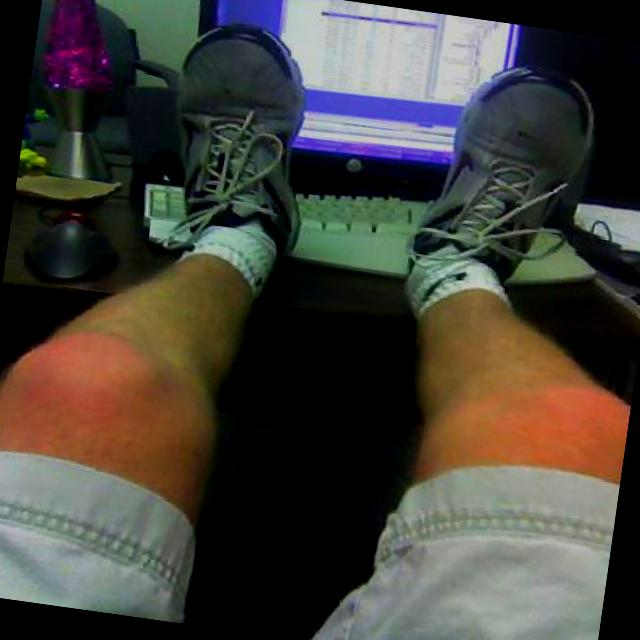Person: (0, 1, 325, 626), (319, 45, 640, 640)
